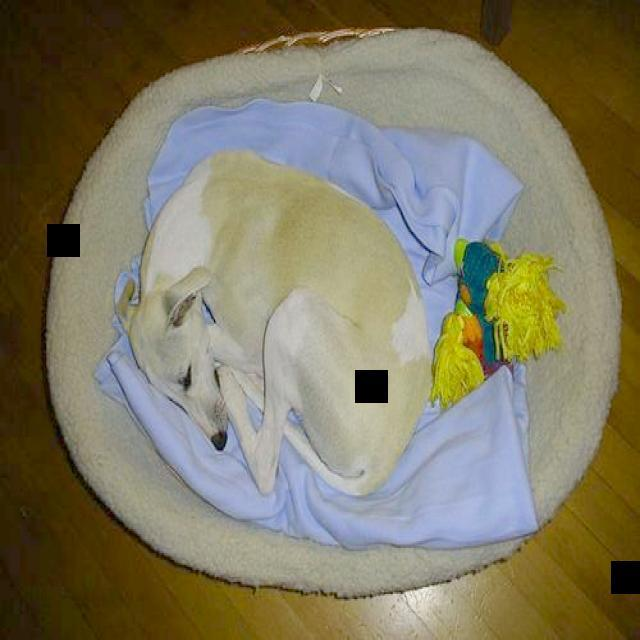adult_dog: (119, 148, 437, 499)
